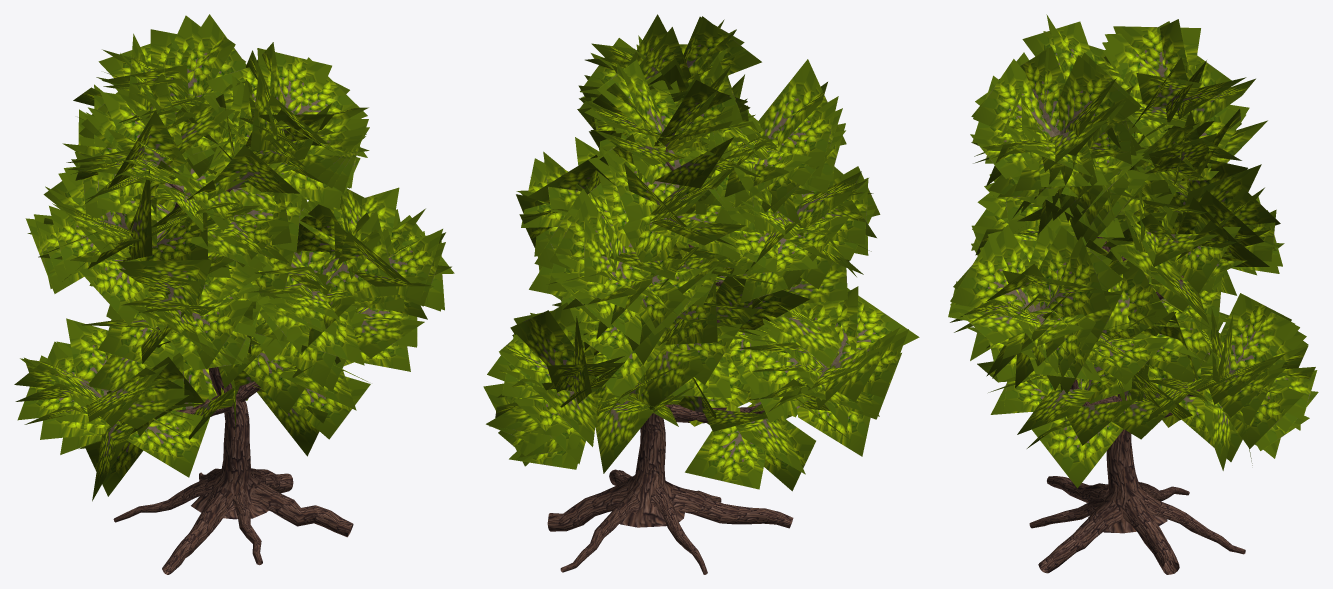
File: weird_tree.FBX
3 views of the same model, side by side, from view 1: azimuth 30°, elevation 25°; view 2: azimuth 150°, elevation 25°; view 3: azimuth 270°, elevation 25° (orthographic).
Visible parts, largest first — view 1: weird_tree_LOD0; view 2: weird_tree_LOD0; view 3: weird_tree_LOD0.
Part boxes in pixels (x1,y1,x2,y2): weird_tree_LOD0: [14, 14, 454, 574]; weird_tree_LOD0: [483, 14, 919, 574]; weird_tree_LOD0: [948, 14, 1318, 574].
Size of what is drawn, in the model's own units: 920 by 768 by 1127.
